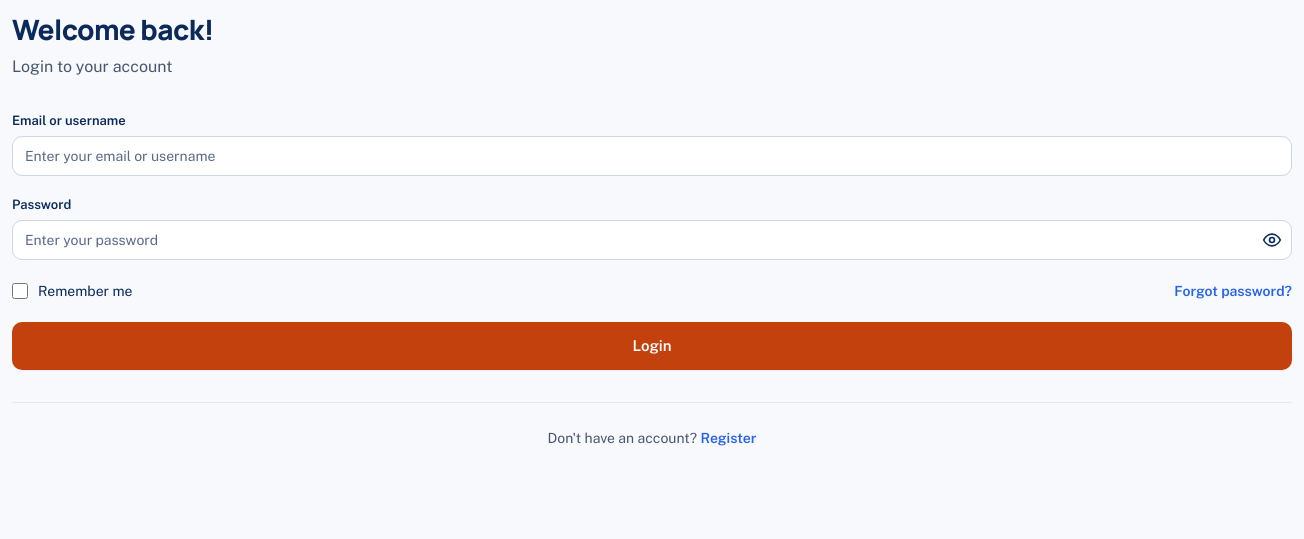
LoginPage › shows a translated error and does not navigate on invalid credentials
Type "student@example.com" into the field labelled "Email or username" at [652, 156], box [12,136,1292,176]
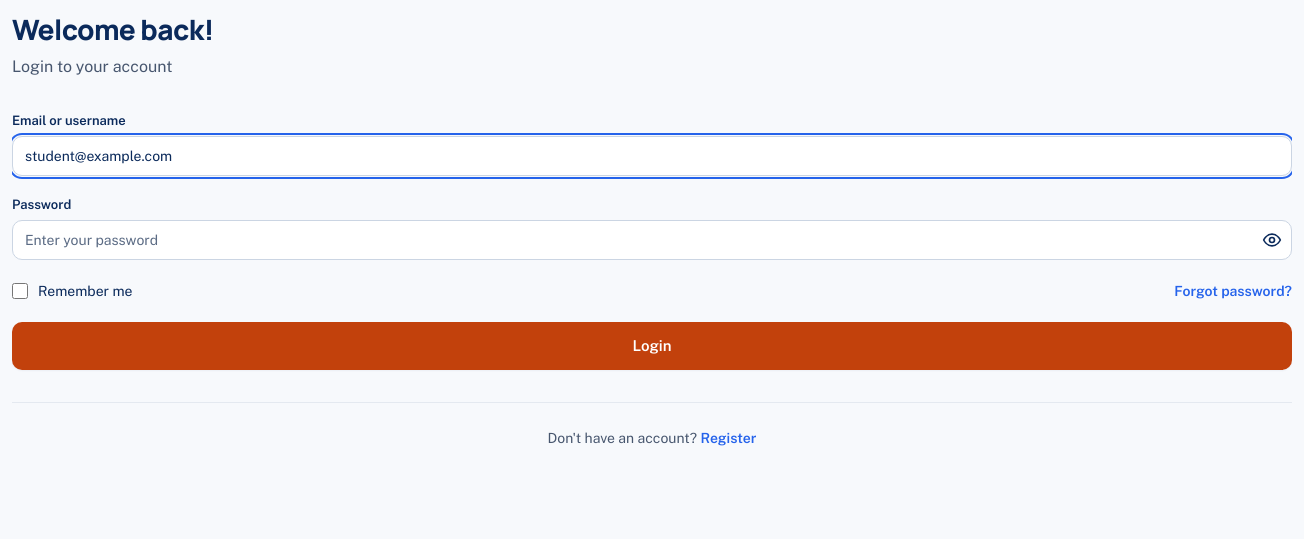
Type "wrong-password" into the password field labelled "Password" at [652, 240], box [12,220,1292,260]
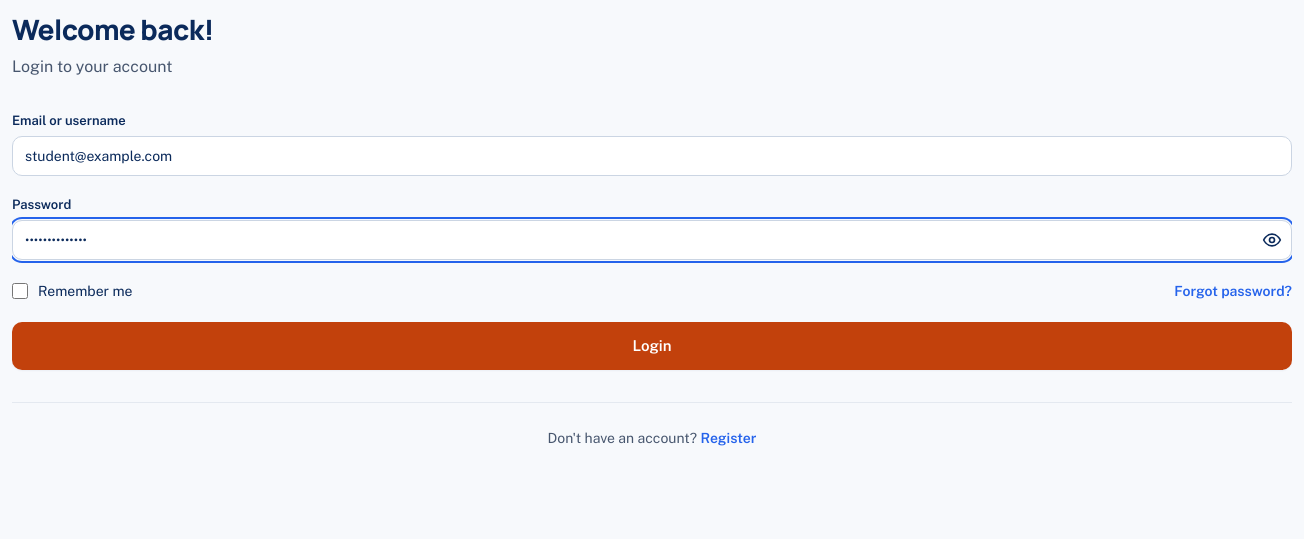
Click the button "Login" at [652, 346], box [12,322,1292,370]
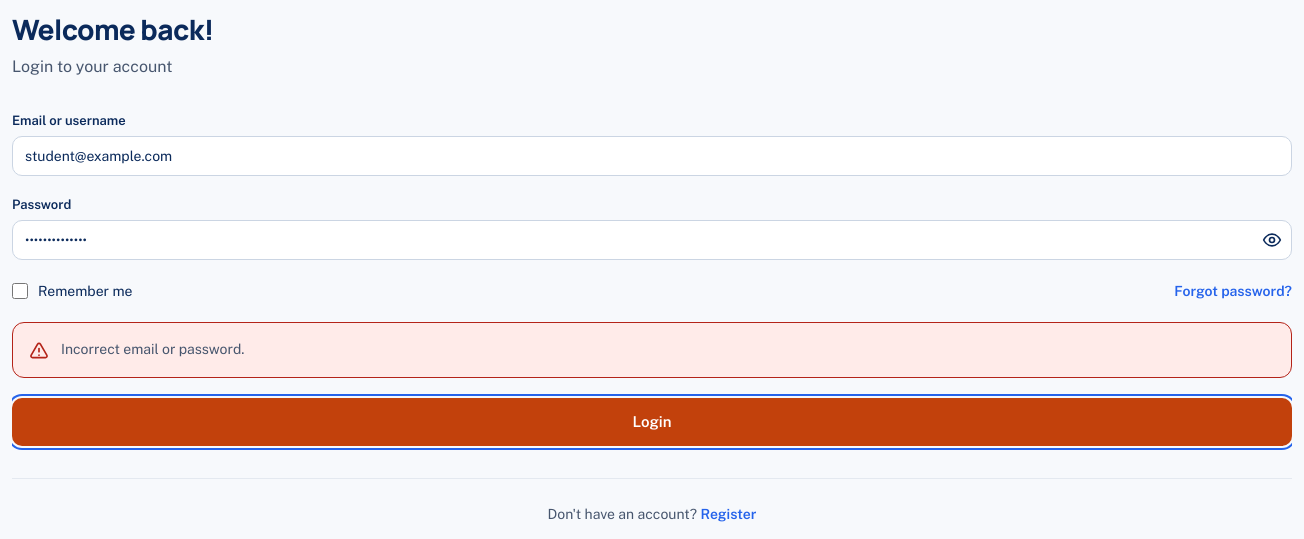
Expected: the message shows "Incorrect email or password", [61,341,244,357]
